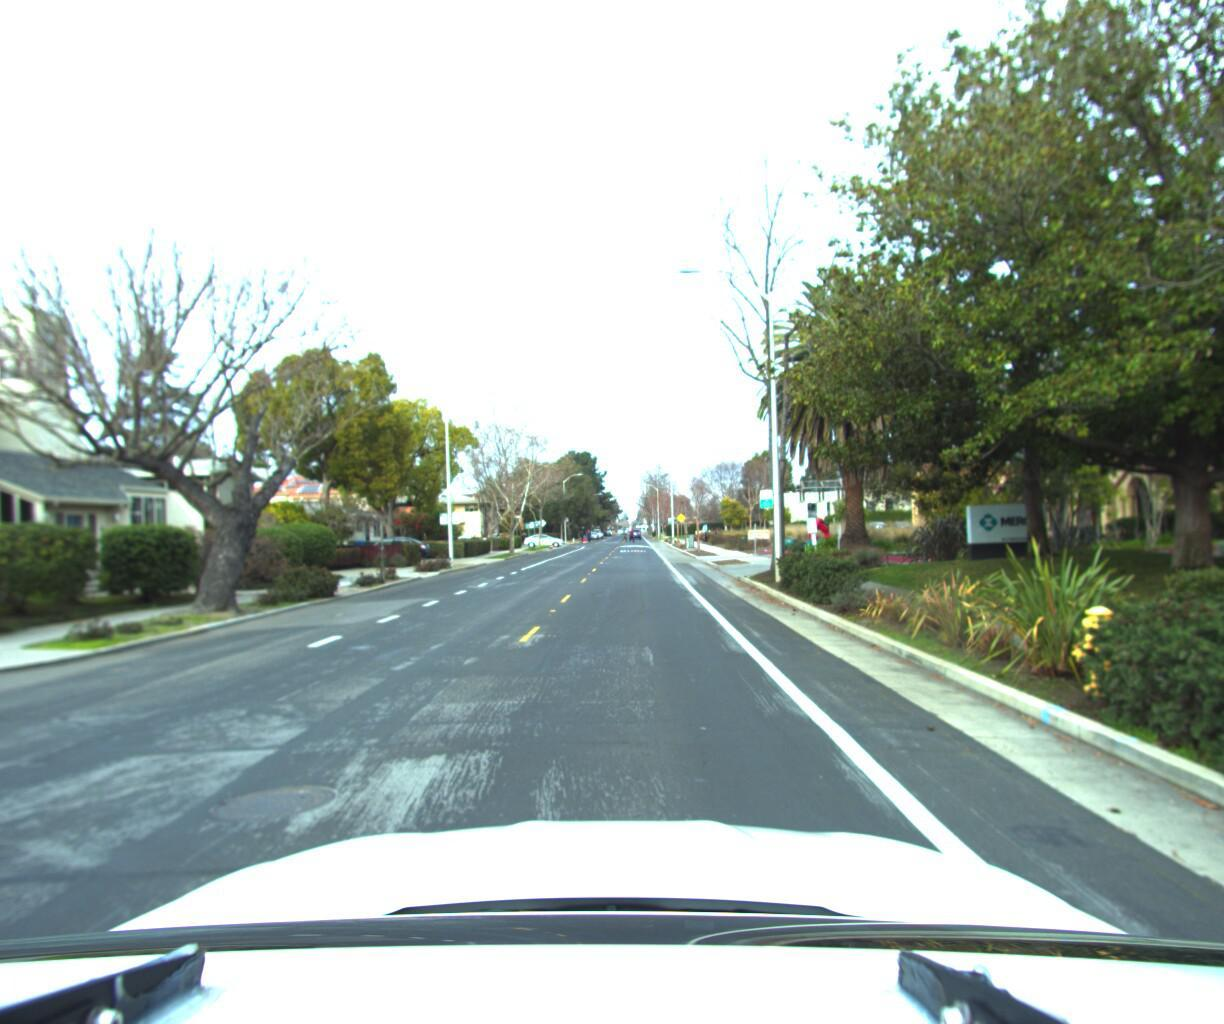car: (522, 529, 564, 545)
